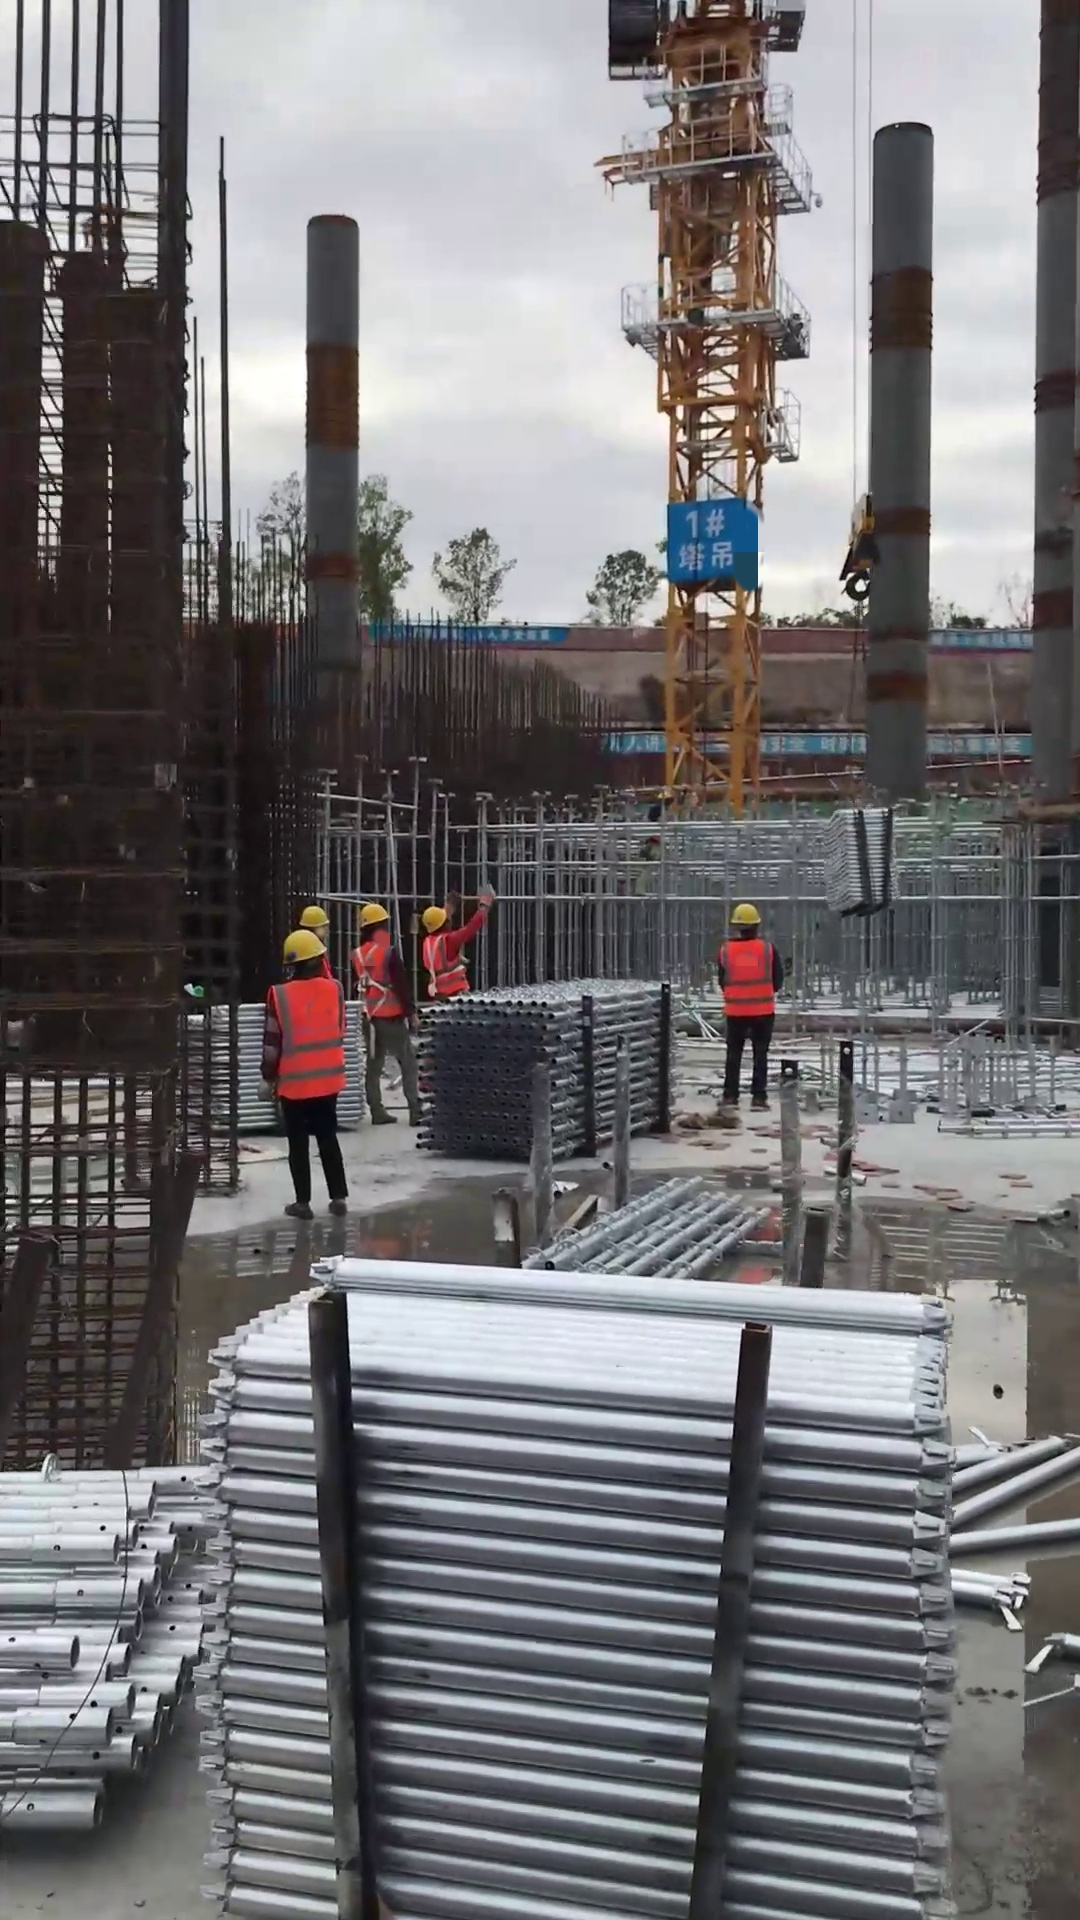helmet: (278, 929, 331, 971), (356, 903, 393, 931), (419, 902, 447, 935), (728, 902, 761, 930), (297, 904, 330, 929)
hook: (836, 488, 883, 604)
person: (254, 927, 352, 1222), (352, 903, 421, 1127), (715, 900, 785, 1113), (419, 881, 497, 998)
scaffold: (190, 1253, 963, 1918), (1, 1459, 196, 1833), (416, 973, 681, 1159), (179, 998, 366, 1129), (535, 1179, 771, 1282), (821, 805, 901, 918)
slogan: (667, 498, 746, 577), (382, 620, 559, 647), (926, 729, 1030, 755), (757, 730, 871, 754), (928, 626, 1034, 650), (600, 729, 668, 754)
vest: (264, 975, 348, 1101), (718, 935, 778, 1019), (352, 939, 404, 1020), (421, 931, 469, 997)
